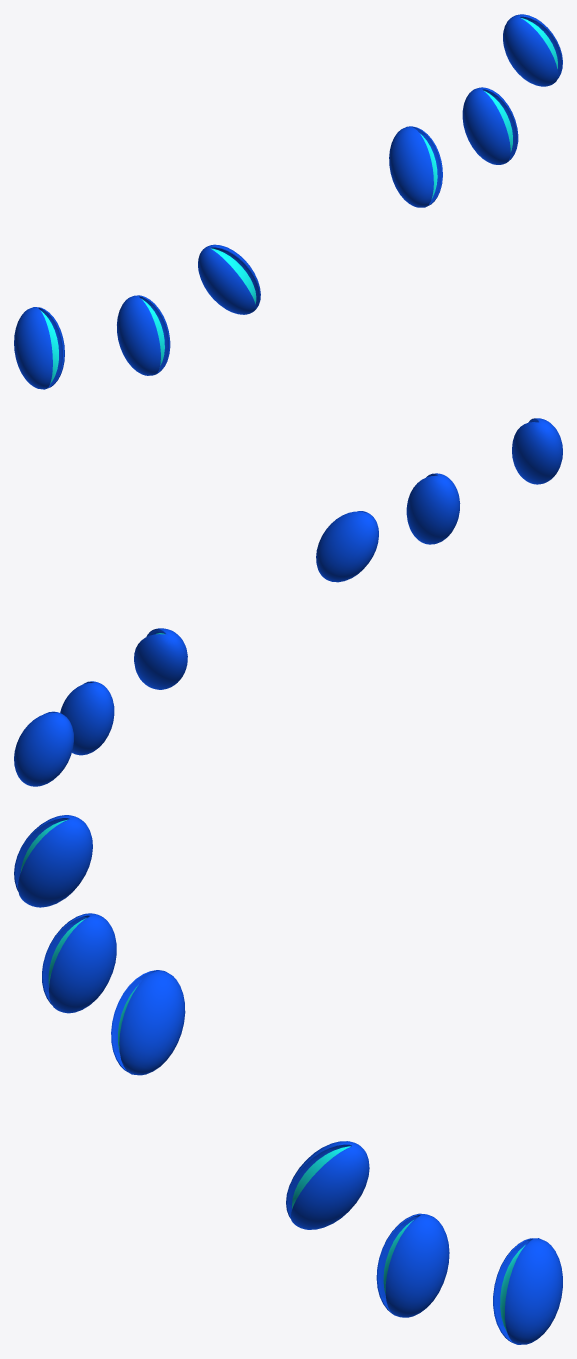
The picture shows the model from 3 angles, top to bottom: view 1: azimuth 30°, elevation 25°; view 2: azimuth 210°, elevation 25°; view 3: azimuth 270°, elevation 25°; orthographic projection. The views are drawn at different scales.
Visible parts, largest first — view 1: Seed_2, Seed_3, Seed_1; view 2: Seed_1, Seed_3, Seed_2; view 3: Seed_2, Seed_3, Seed_1.
Part boxes in pixels (bbox=[...]): Seed_2: bbox=[117, 87, 518, 375]; Seed_3: bbox=[198, 126, 442, 314]; Seed_1: bbox=[14, 14, 562, 389]; Seed_1: bbox=[14, 418, 562, 786]; Seed_3: bbox=[134, 511, 378, 689]; Seed_2: bbox=[60, 473, 460, 755]; Seed_2: bbox=[42, 913, 449, 1317]; Seed_3: bbox=[111, 970, 369, 1229]; Seed_1: bbox=[14, 815, 562, 1344].
Size of the model in its own units: 59.93 by 30.34 by 7.53.
